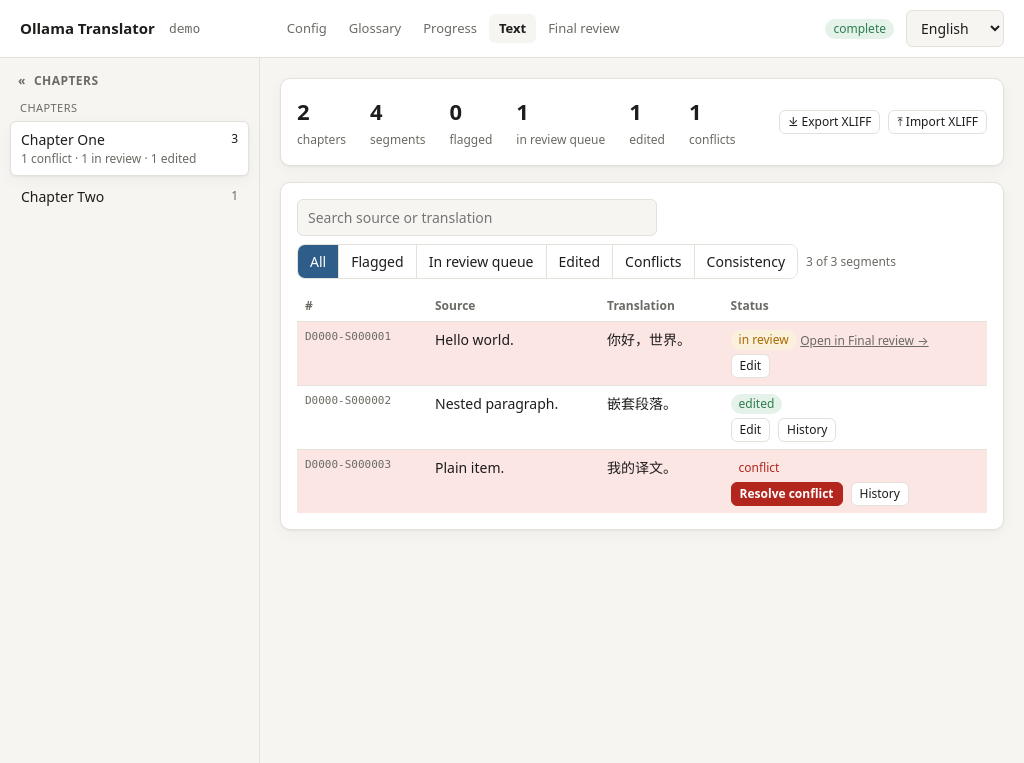
Test case: Text tab › editing a segment › needs an override reason to save past an overridable finding, and sends it
The image size is (1024, 763).
Check: the text "Hello world." is shown, box left=427, top=322, right=599, bottom=386
Click the button "Edit" below "Open in Final review →".
click(750, 366)  # box left=731, top=354, right=770, bottom=378
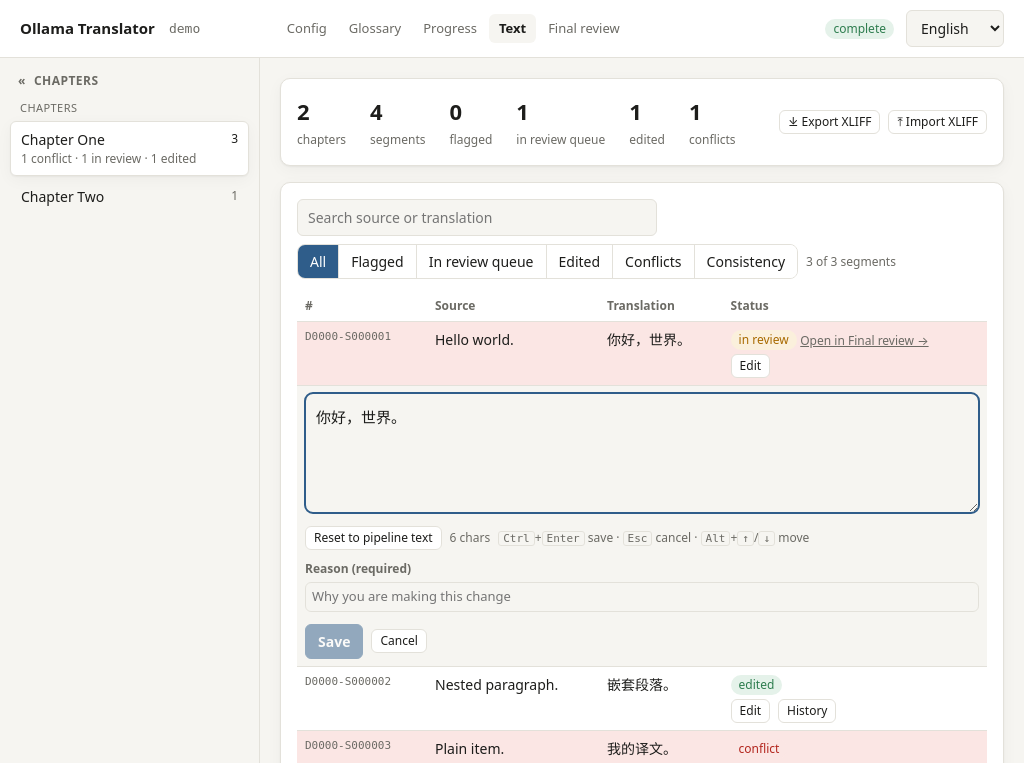
Type "！" into the text box showing "你好，世界。".
click(642, 453); type("！")  # box left=305, top=393, right=979, bottom=513
(page scrolled)
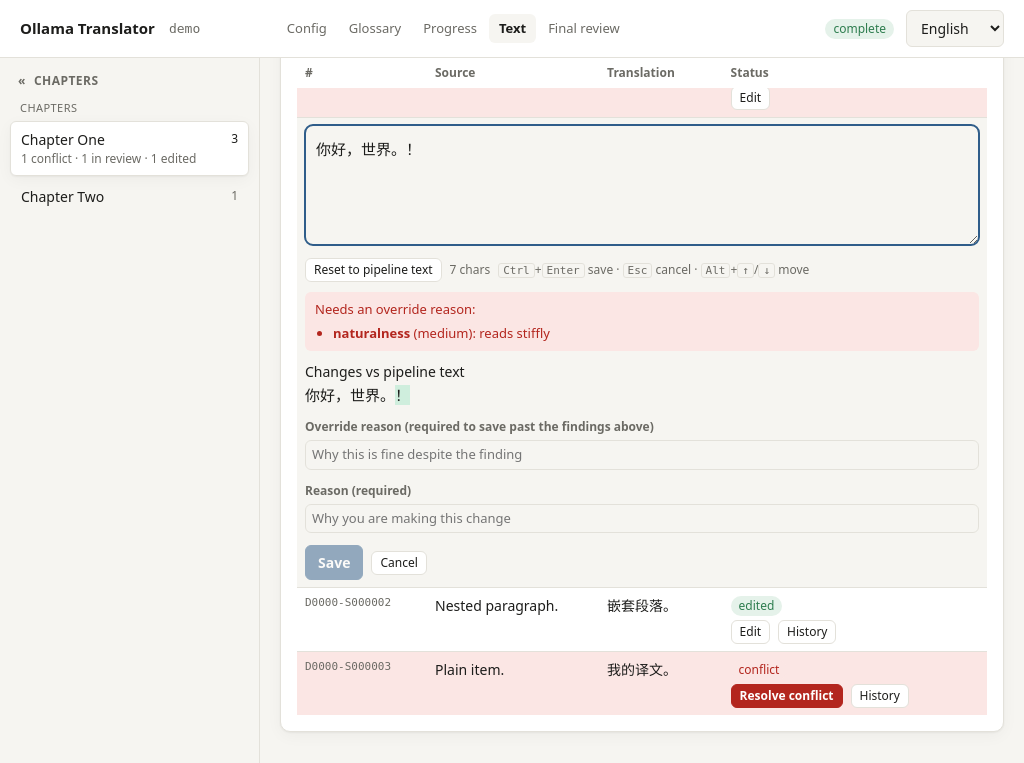
Check: the text "Needs an override reason:" is shown, box left=315, top=300, right=476, bottom=318
Type "Emphasis." into the field with placeholder "Why you are making this change".
click(642, 519); type("Emphasis.")  # box left=305, top=504, right=979, bottom=533
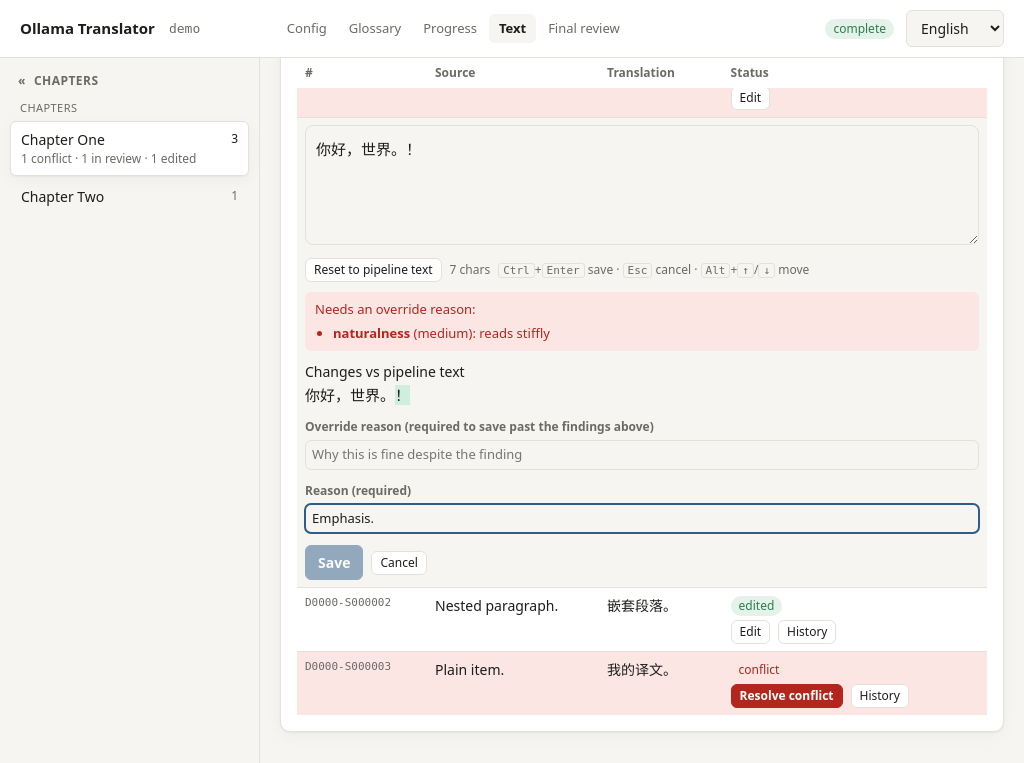
Check: the button "Save" is disabled, box left=305, top=545, right=363, bottom=580
Type "Deliberate tone." into the field with placeholder "Why this is fine despite the finding".
click(642, 455); type("Deliberate tone.")  # box left=305, top=440, right=979, bottom=470
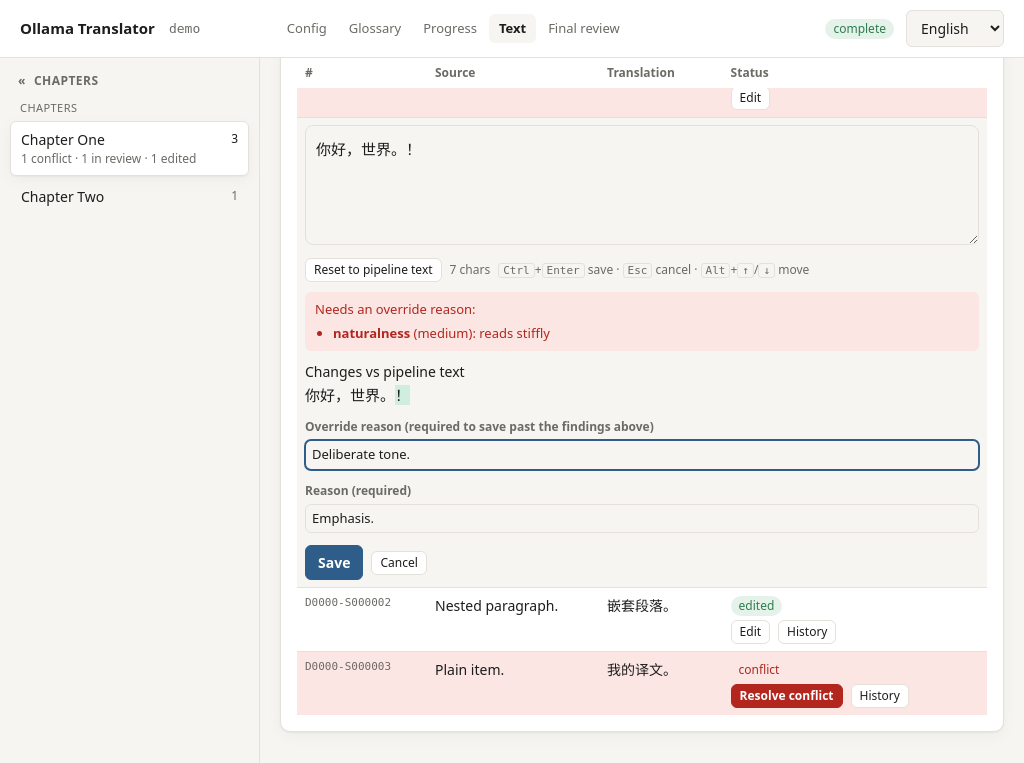
Check: the button "Save" is enabled
Click the button "Save".
click(334, 563)  # box left=305, top=545, right=363, bottom=580
(page scrolled)
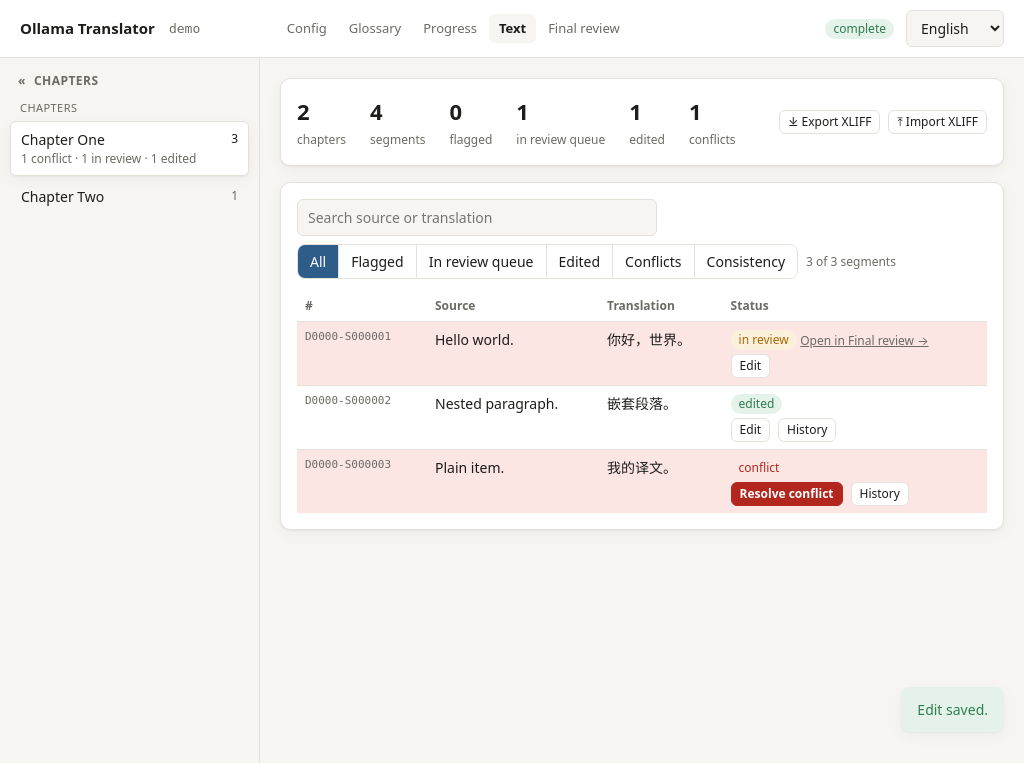
Check: the text "Edit saved." is shown, box left=901, top=687, right=1004, bottom=732
